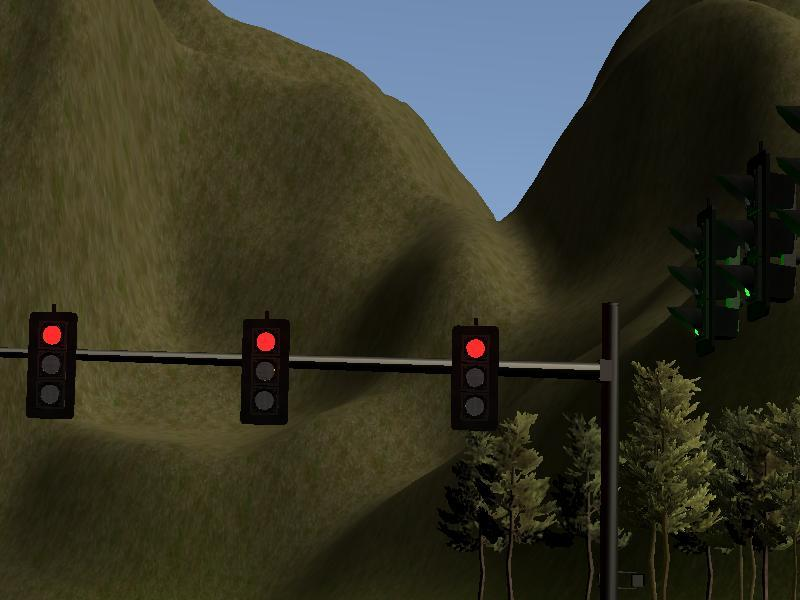Red: (26, 312, 75, 421), (448, 325, 497, 434), (240, 318, 289, 427)
